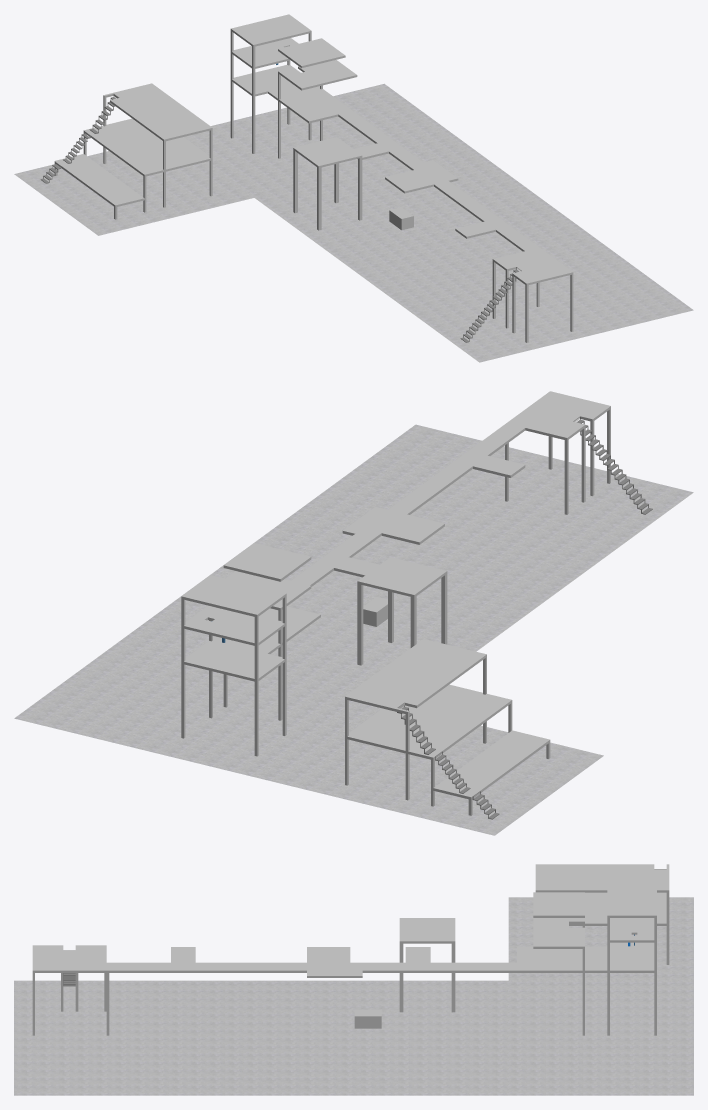
3 renders of one model, top to bottom at view 1: azimuth 30°, elevation 25°; view 2: azimuth 150°, elevation 25°; view 3: azimuth 270°, elevation 25°, orthographic. The views are drawn at different scales.
Parts seen in each view (by area): view 1: root; view 2: root; view 3: root.
Boxes of the visible parts, box(x1,y1,x2,y2) form: root: box(14, 14, 693, 362); root: box(14, 391, 693, 835); root: box(14, 864, 693, 1095).
Size of the model in its own units: 38 by 10.7 by 55.
5 materials, 2 textured.
